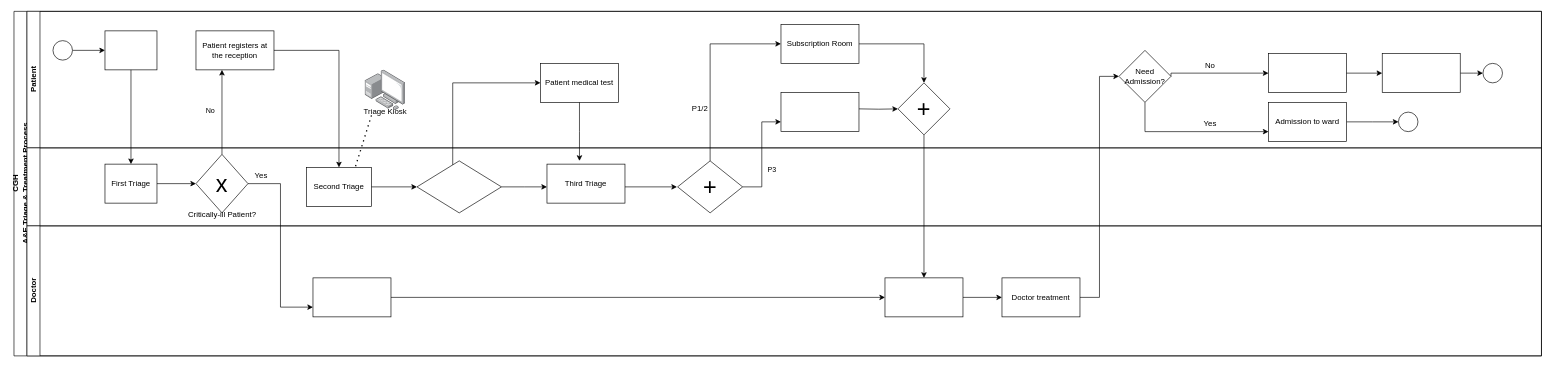
Some shapes in this 1553 by 367 pixel diagram are drawn without their labels. The shapes that lost their labels are listed below. From the top down, each one's box as (x1, y1, x2, y2) in pixels, then its label:
(104, 30, 157, 70): Patient arrive at A&E
(1268, 53, 1346, 93): Patient receive medication
(1382, 53, 1460, 93): Patient make payment
(780, 92, 859, 132): Level 2
(416, 160, 501, 213): Medical Test Needed?
(26, 147, 1541, 226): Staff
(312, 277, 391, 317): Resuscitation
(884, 277, 963, 317): Doctor diagnosis
